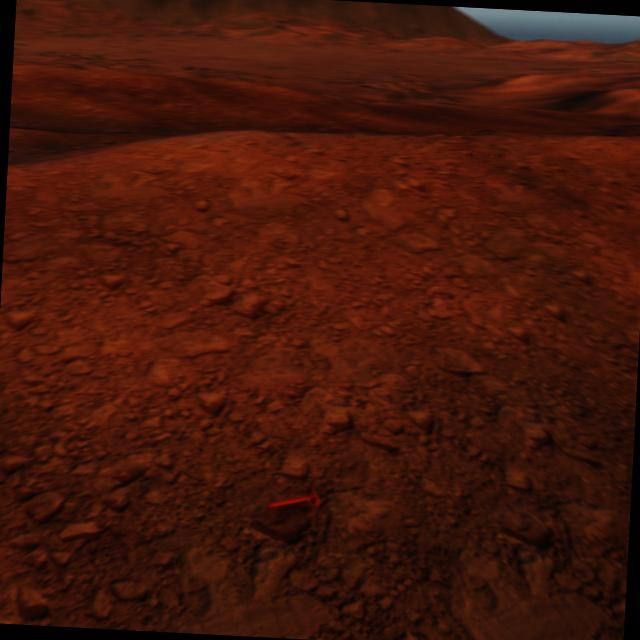newhammer: (266, 484, 321, 512)
